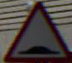Speed Breaker ahead: (5, 6, 63, 53)
